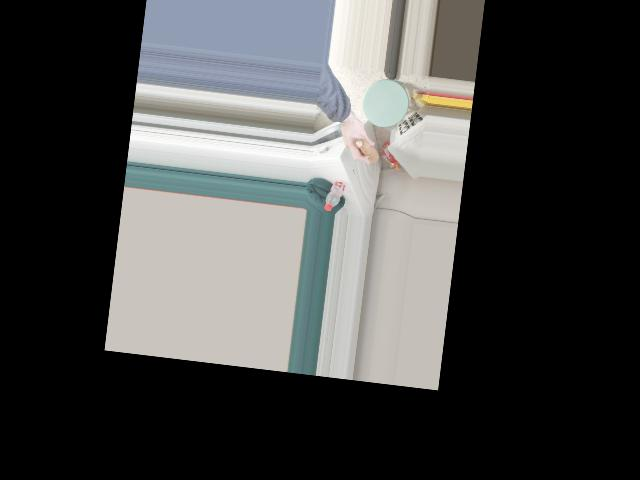sweet_potato: (350, 134, 379, 165)
